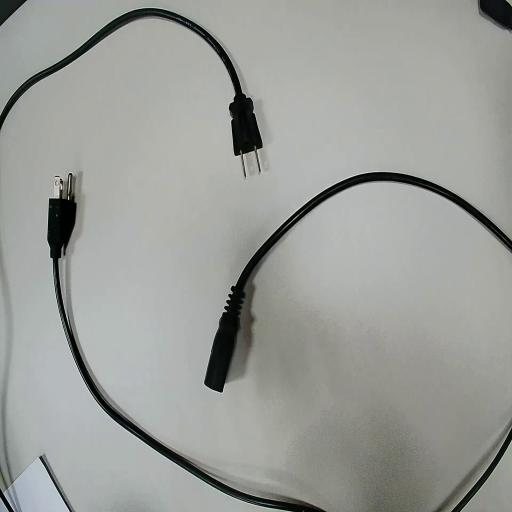wire: (48, 192, 323, 511), (205, 173, 511, 390), (0, 9, 261, 154)
